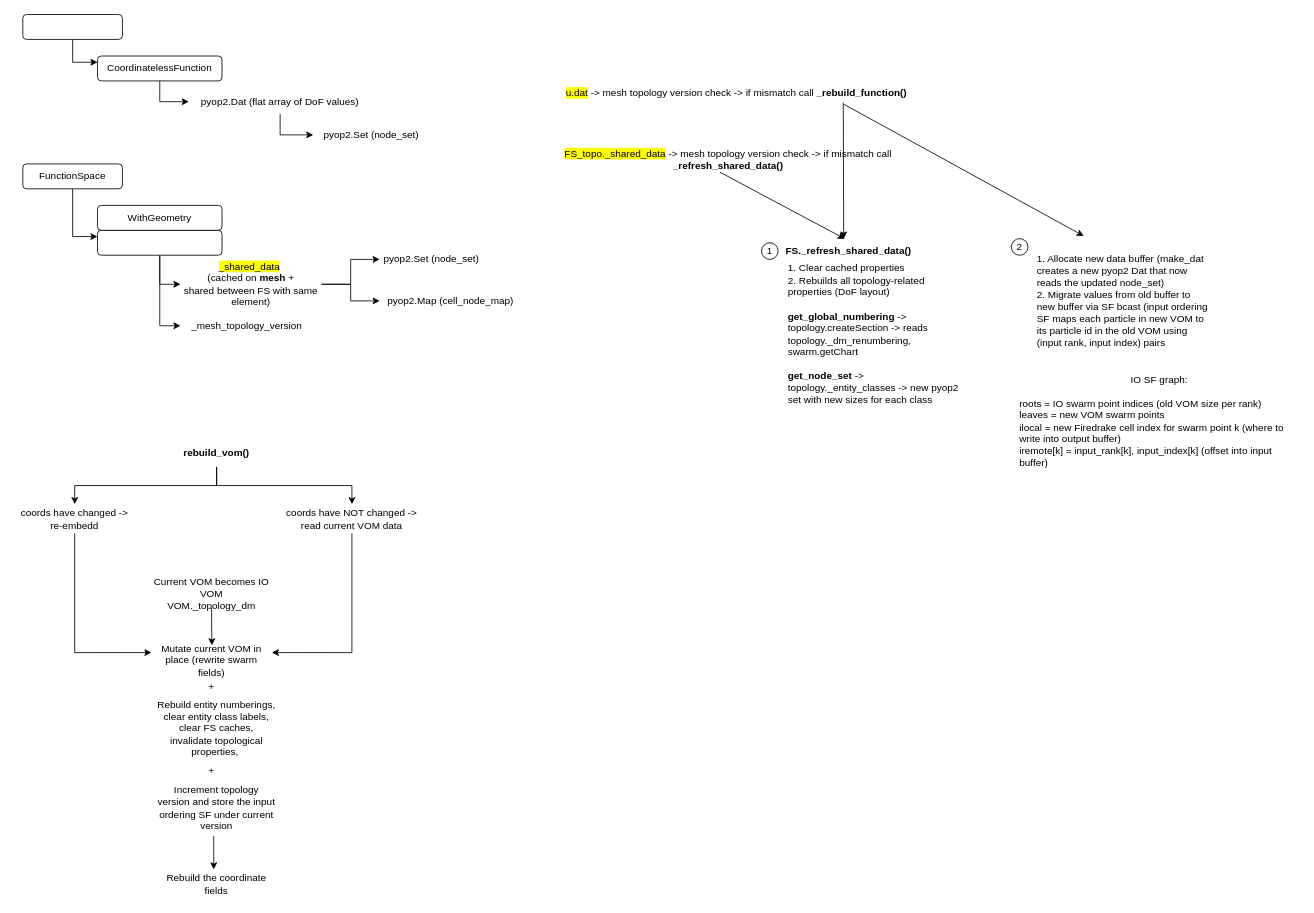
Image size: 1314x913. Some labels were removed from this diagram. Each missing label, with the centre of its shape:
"Function" goes at pixel 72 26.
"Topological" goes at pixel 159 242.
